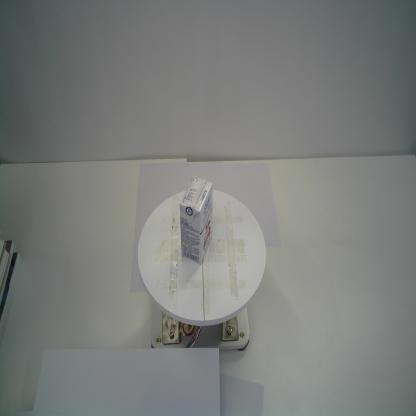Milk: (178, 175, 214, 266)
